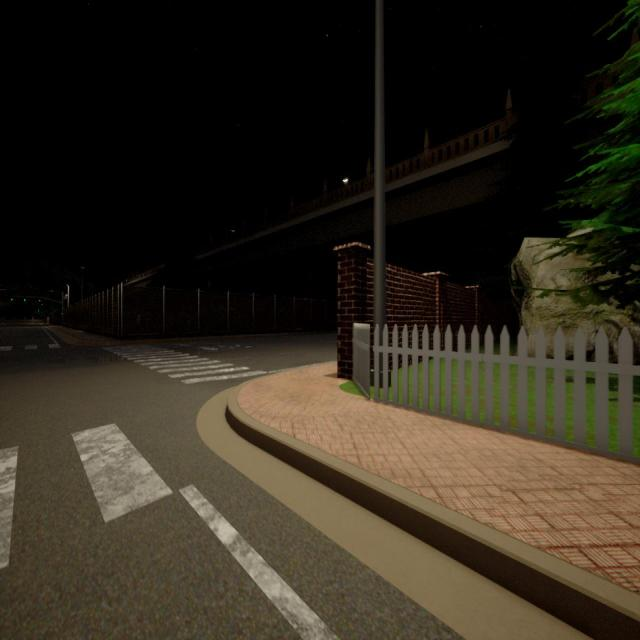traffic_light: (24, 297, 26, 302), (38, 297, 40, 302), (11, 298, 13, 301), (62, 310, 63, 316)
